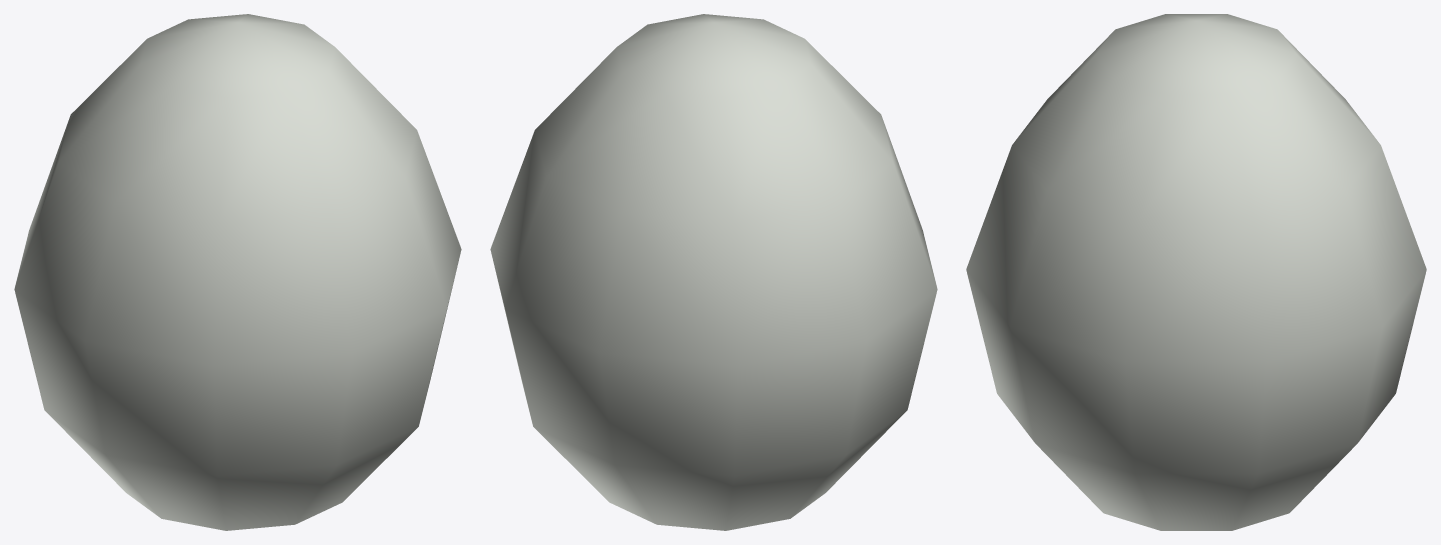
File: CoopCozy_Egg.fbx
3 views of the same model, side by side, from view 1: azimuth 30°, elevation 25°; view 2: azimuth 150°, elevation 25°; view 3: azimuth 270°, elevation 25° (orthographic).
Visible parts, largest first — view 1: CoopCozy_Egg; view 2: CoopCozy_Egg; view 3: CoopCozy_Egg.
Part boxes in pixels (x1=…): CoopCozy_Egg: x1=14, y1=14, x2=461, y2=530; CoopCozy_Egg: x1=490, y1=14, x2=937, y2=530; CoopCozy_Egg: x1=966, y1=14, x2=1426, y2=530.
Size of the model in its own units: 0.1997 by 0.25 by 0.21.
